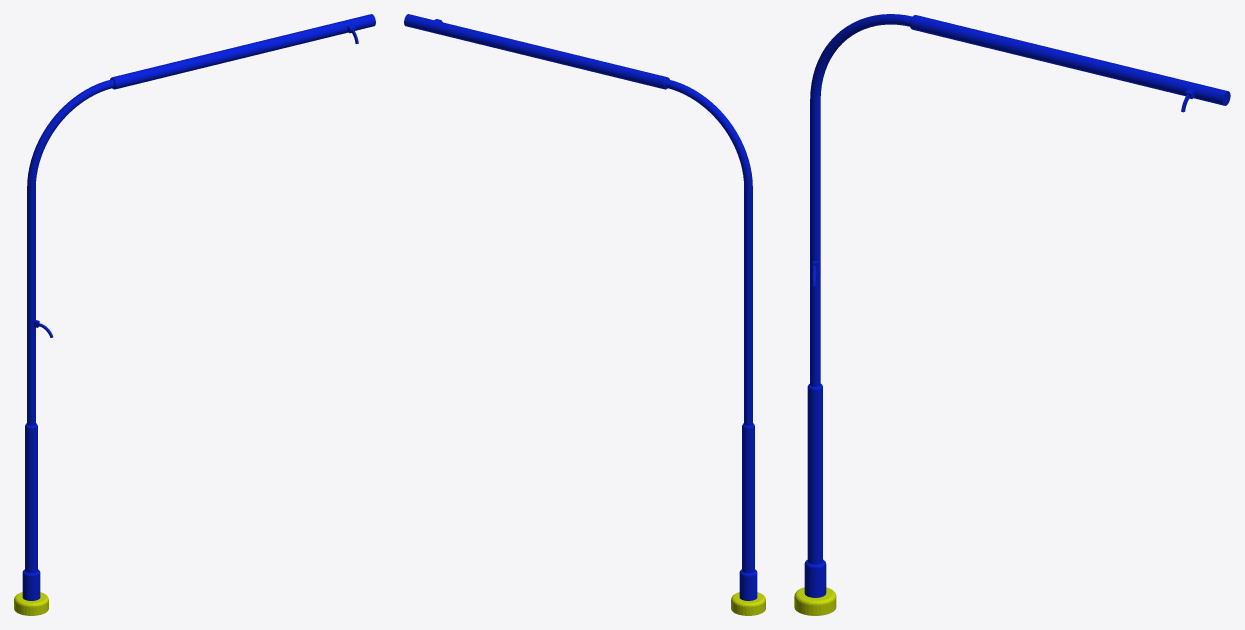
Rendered from sloup1.fbx.
The picture shows the model from 3 angles, left to right: view 1: azimuth 30°, elevation 25°; view 2: azimuth 150°, elevation 25°; view 3: azimuth 330°, elevation 25°; orthographic projection. The views are drawn at different scales.
Parts seen in each view (by area): view 1: sloup1; view 2: sloup1; view 3: sloup1.
Boxes of the visible parts, x1,y1,x2,y2 form: sloup1: (14, 14, 375, 615); sloup1: (404, 14, 765, 615); sloup1: (794, 14, 1230, 615).
Size of the model in its own units: 425 by 582 by 41.44.
